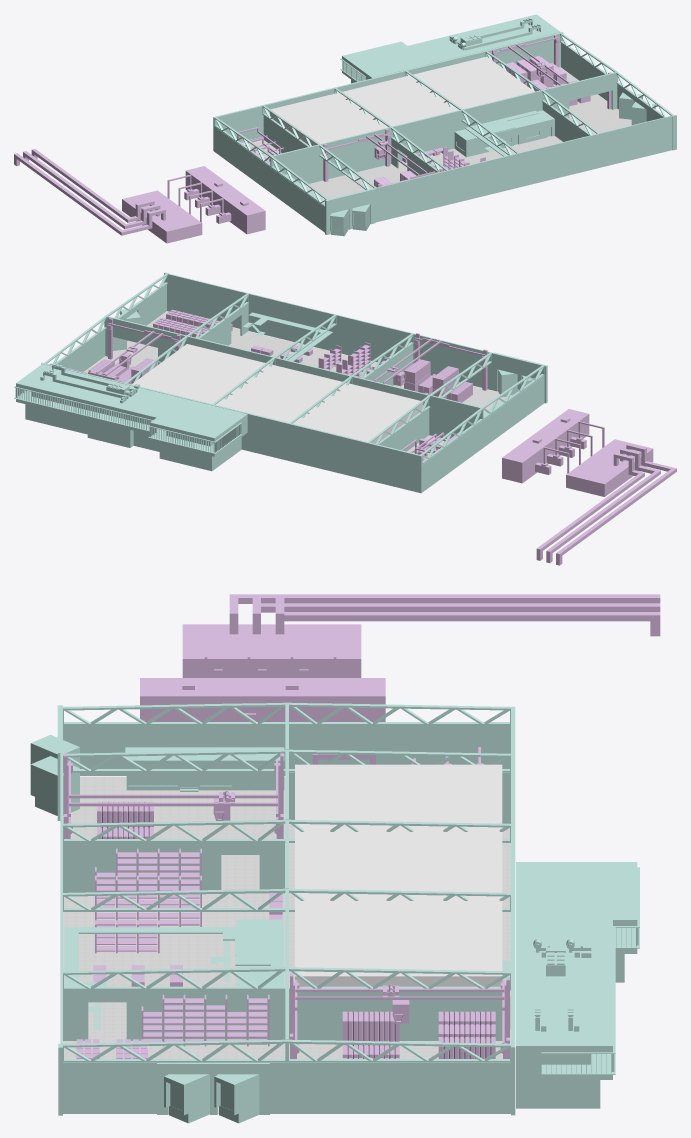
The model's file is factory.glb.
3 views of the same model, one above another, from view 1: azimuth 30°, elevation 25°; view 2: azimuth 150°, elevation 25°; view 3: azimuth 270°, elevation 25° (orthographic). The views are drawn at different scales.
Parts seen in each view (by area): view 1: walls, shelves, detection_production, floor; view 2: walls, shelves, detection_production, floor; view 3: walls, shelves, detection_production, floor.
Boxes of the visible parts, <box> form: walls: <box>213,14,676,236</box>; shelves: <box>14,34,611,243</box>; detection_production: <box>270,56,534,145</box>; floor: <box>248,67,631,213</box>; walls: <box>14,272,547,493</box>; shelves: <box>50,309,676,565</box>; detection_production: <box>132,344,423,443</box>; floor: <box>85,311,506,456</box>; walls: <box>30,702,639,1123</box>; shelves: <box>63,594,660,1058</box>; detection_production: <box>295,764,502,986</box>; floor: <box>63,776,510,1113</box>.
Bounding box in the file's own units: 17.99 × 1.39 × 9.39.
5 materials, 1 textured.
